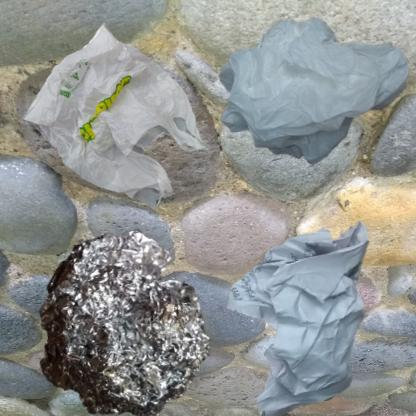aluminio: (10, 213, 237, 416)
bolsa: (10, 10, 218, 229), (213, 10, 416, 173)
papel: (213, 213, 414, 416)
